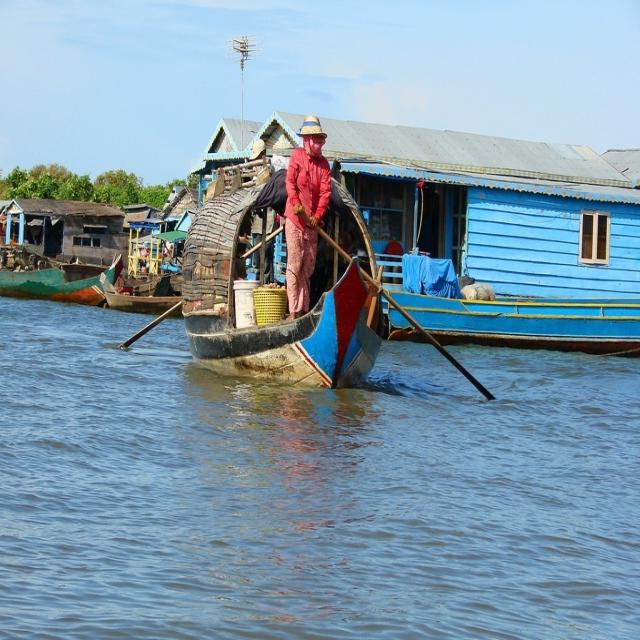boat: (172, 160, 389, 392), (372, 285, 640, 351)
